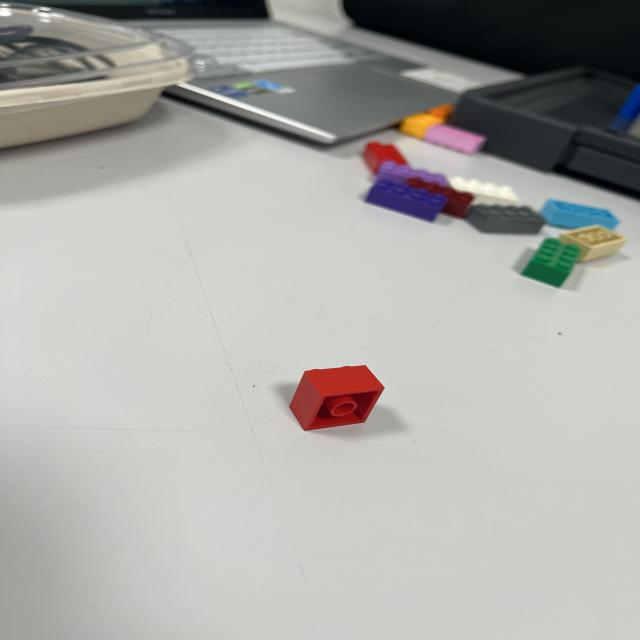C2x2x1: (290, 362, 385, 429)
